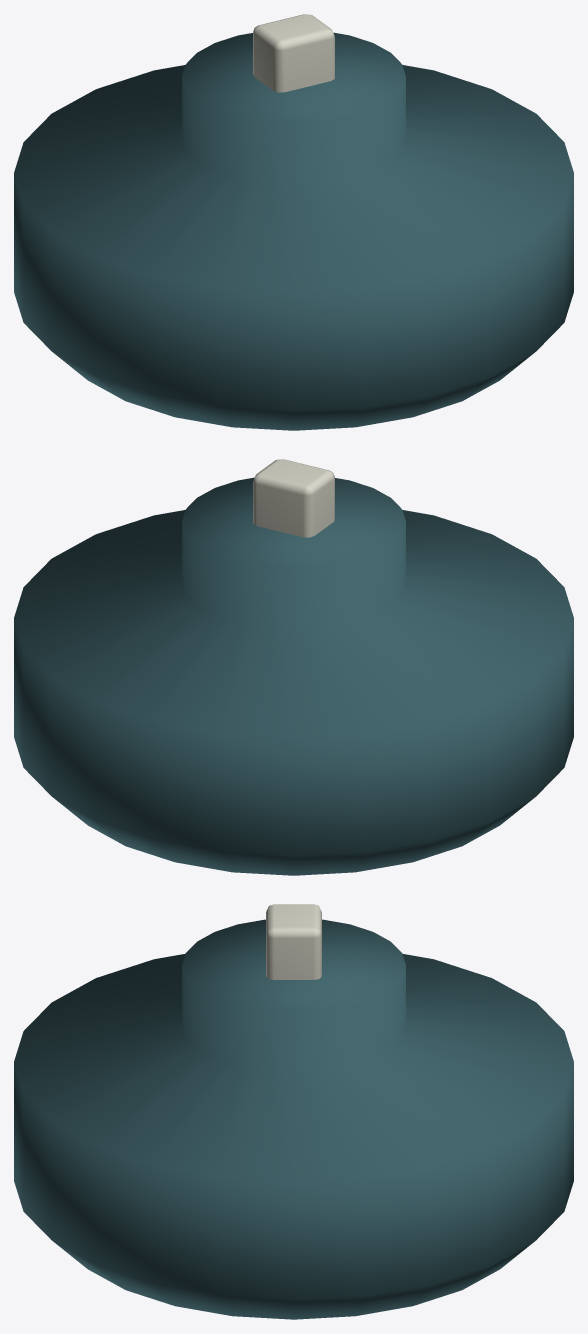
File: molotov-bottle.glb
The picture shows the model from 3 angles, top to bottom: view 1: azimuth 30°, elevation 25°; view 2: azimuth 150°, elevation 25°; view 3: azimuth 270°, elevation 25°; orthographic projection.
Visible parts, largest first — view 1: bottle, cloth; view 2: bottle, cloth; view 3: bottle, cloth.
Part boxes in pixels (x1,y1,x2,y2): bottle: (14, 32, 573, 430); cloth: (253, 14, 334, 92); bottle: (14, 477, 573, 875); cloth: (253, 459, 334, 537); bottle: (14, 919, 573, 1319); cloth: (266, 904, 321, 979).
Bounding box in the file's own units: 2 × 1.19 × 2.
